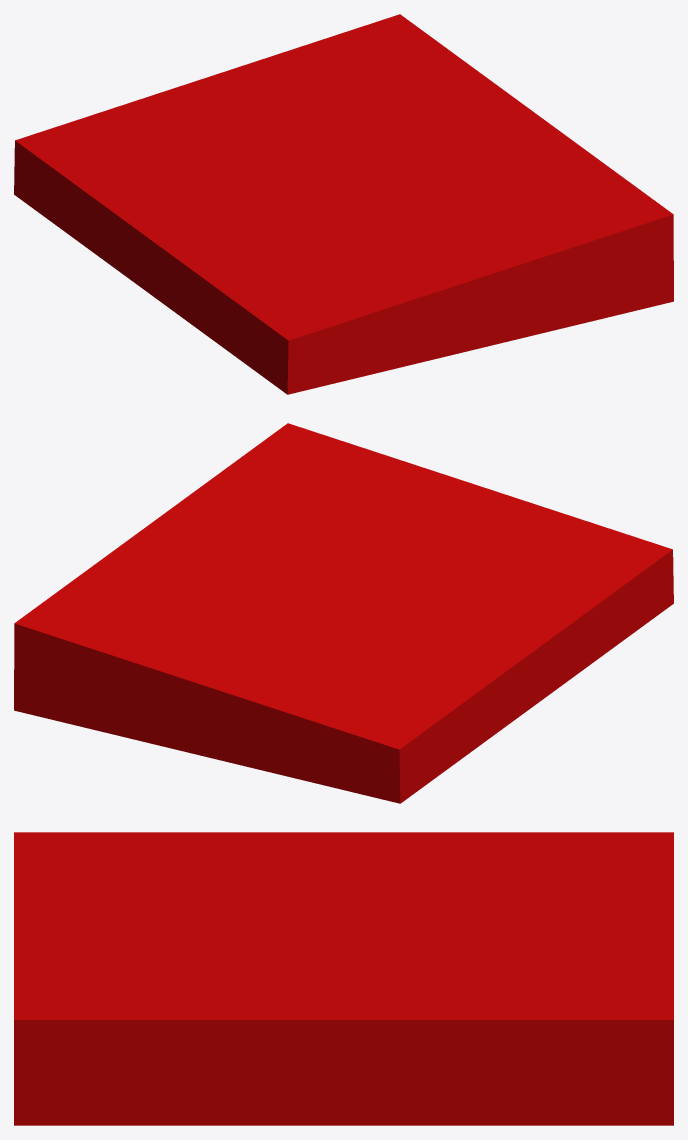
The model's file is UCX_klaser.fbx.
3 renders of one model, top to bottom at view 1: azimuth 30°, elevation 25°; view 2: azimuth 150°, elevation 25°; view 3: azimuth 270°, elevation 25°, orthographic. The views are drawn at different scales.
Visible parts, largest first — view 1: UCX_klaser; view 2: UCX_klaser; view 3: UCX_klaser.
Boxes of the visible parts, x1,y1,x2,y2 form: UCX_klaser: (14, 14, 673, 394); UCX_klaser: (14, 423, 673, 803); UCX_klaser: (14, 832, 673, 1125).
Size of the model in its own units: 0.1861 by 0.0402 by 0.2282.
